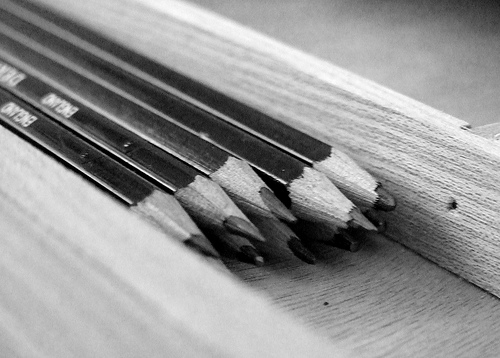pen_tip: (274, 164, 388, 252)
